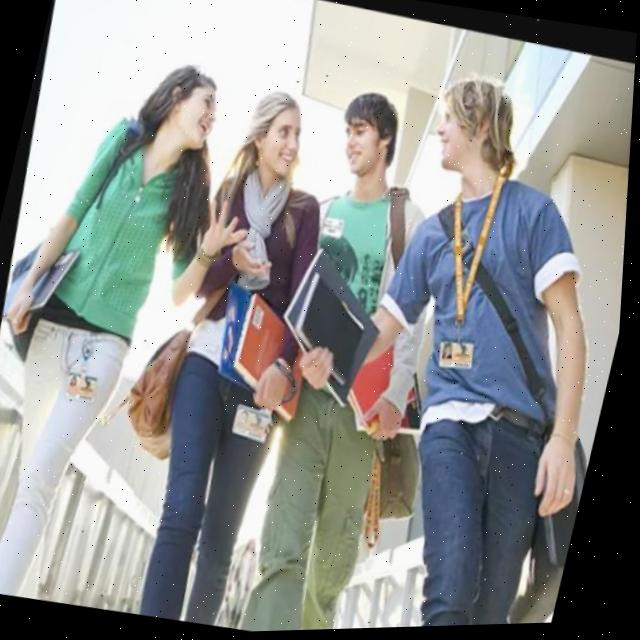id_card: (405, 169, 514, 382)
